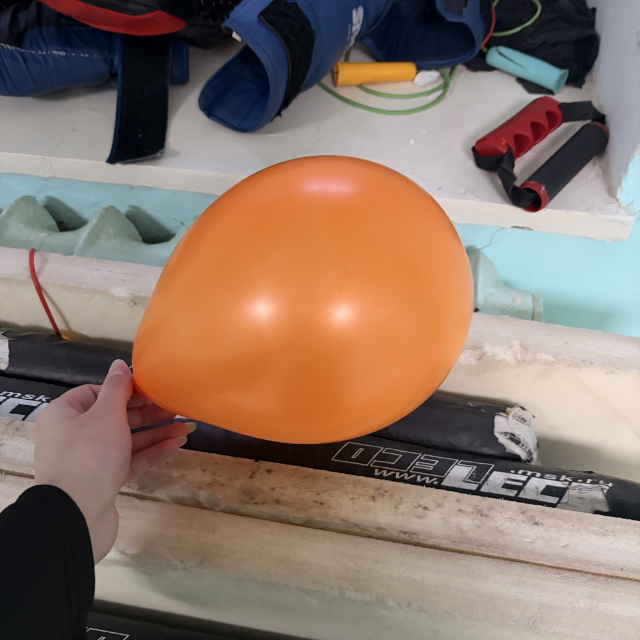balloon: (131, 155, 474, 445)
